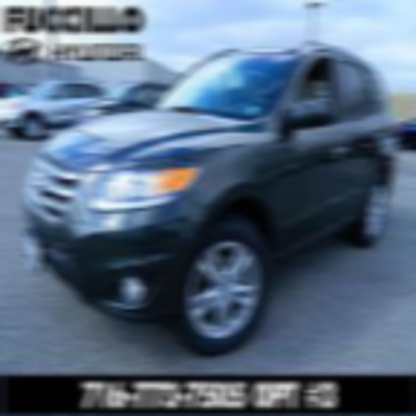Vehicle: (18, 20, 410, 390)
